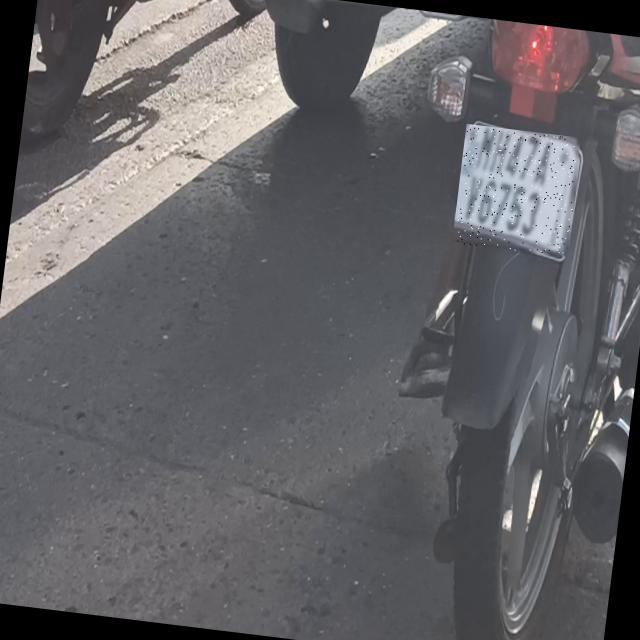Plate: (453, 125, 583, 258)
